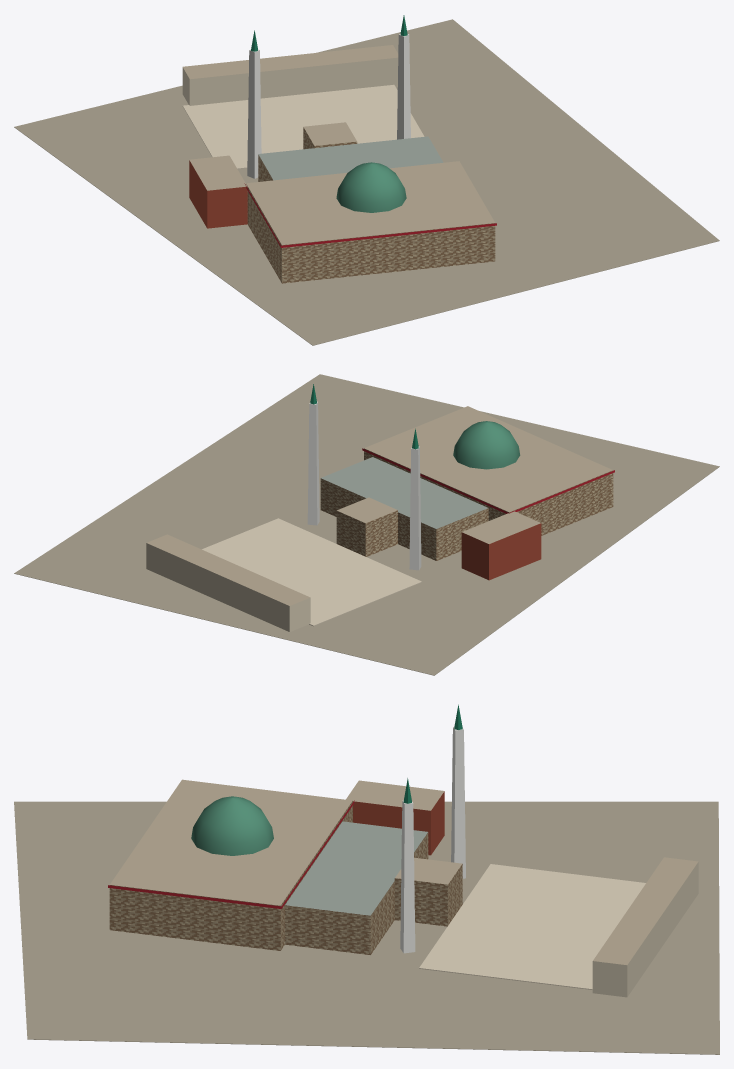
File: lal_masjid_far.glb
3 views of the same model, one above another, from view 1: azimuth 30°, elevation 25°; view 2: azimuth 150°, elevation 25°; view 3: azimuth 270°, elevation 25° (orthographic). The views are drawn at different scales.
Visible parts, largest first — view 1: m_lal_ground, m_lal_roof, m_lal_wall_stone, m_lal_pave, m_lal_cream, m_lal_verandah_roof, m_lal_minaret_white, m_lal_dome, m_lal_red_brick, m_lal_red_trim; view 2: m_lal_ground, m_lal_roof, m_lal_pave, m_lal_wall_stone, m_lal_verandah_roof, m_lal_cream, m_lal_red_brick, m_lal_minaret_white, m_lal_dome, m_lal_red_trim; view 3: m_lal_ground, m_lal_roof, m_lal_pave, m_lal_wall_stone, m_lal_verandah_roof, m_lal_minaret_white, m_lal_dome, m_lal_cream, m_lal_red_brick, m_lal_red_trim.
Part boxes in pixels (x1,y1,x2,y2): m_lal_ground: (14, 19, 719, 345); m_lal_roof: (183, 45, 494, 244); m_lal_wall_stone: (246, 127, 495, 283); m_lal_pave: (182, 84, 424, 168); m_lal_cream: (182, 57, 398, 105); m_lal_verandah_roof: (258, 136, 443, 180); m_lal_minaret_white: (247, 34, 410, 178); m_lal_dome: (336, 162, 406, 212); m_lal_red_brick: (189, 160, 247, 228); m_lal_red_trim: (244, 183, 496, 247); m_lal_ground: (14, 374, 719, 675); m_lal_roof: (147, 406, 612, 605); m_lal_pave: (202, 518, 421, 626); m_lal_wall_stone: (320, 448, 613, 560); m_lal_verandah_roof: (321, 457, 487, 528); m_lal_cream: (146, 543, 310, 631); m_lal_red_brick: (461, 523, 541, 580); m_lal_minaret_white: (307, 401, 421, 570); m_lal_dome: (453, 421, 520, 469); m_lal_red_trim: (362, 448, 614, 513); m_lal_ground: (14, 801, 719, 1054); m_lal_roof: (110, 779, 698, 964); m_lal_pave: (419, 864, 645, 989); m_lal_wall_stone: (109, 801, 462, 954); m_lal_verandah_roof: (285, 821, 427, 915); m_lal_minaret_white: (400, 727, 465, 953); m_lal_dome: (191, 796, 273, 855); m_lal_cream: (592, 862, 698, 997); m_lal_red_brick: (353, 791, 444, 855); m_lal_red_trim: (108, 800, 354, 908).
Bounding box in the file's own units: 83.1 × 26.5 × 98.04.
Materials: 11 (1 with a texture image).
